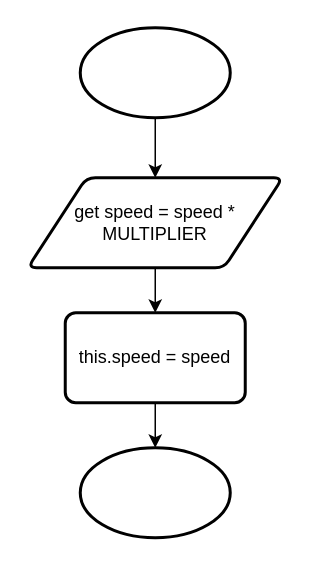
Some shapes in this 309 by 564 pixel diagram are drawn without their labels. The shapes that lost their labels are listed below. From the top down, each one's centre as x and y in pixels, then its label:
the point at 154,72: Start
the point at 154,492: Stop
